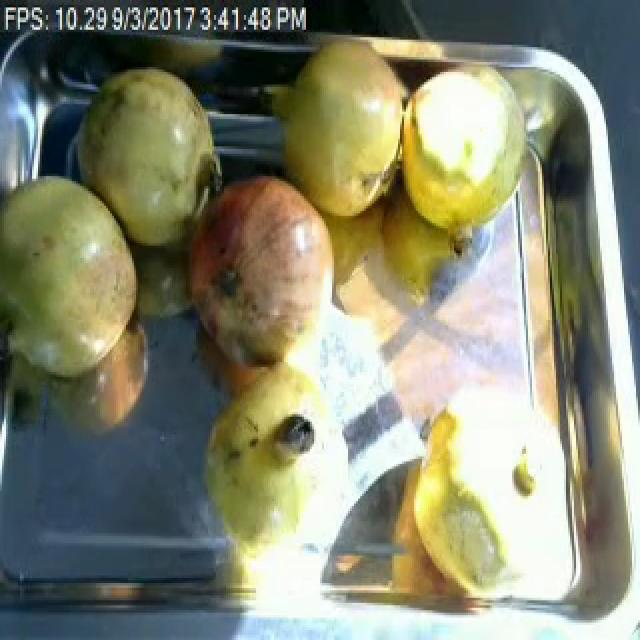fruit: (186, 340, 372, 570), (386, 382, 570, 605), (170, 163, 348, 374), (0, 159, 148, 399), (58, 57, 232, 258), (390, 47, 544, 273), (254, 32, 414, 231)
